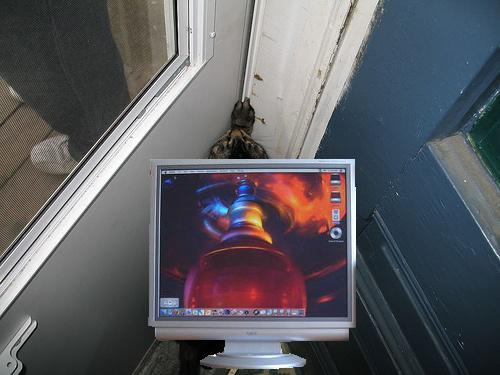tampered: (149, 160, 356, 369)
